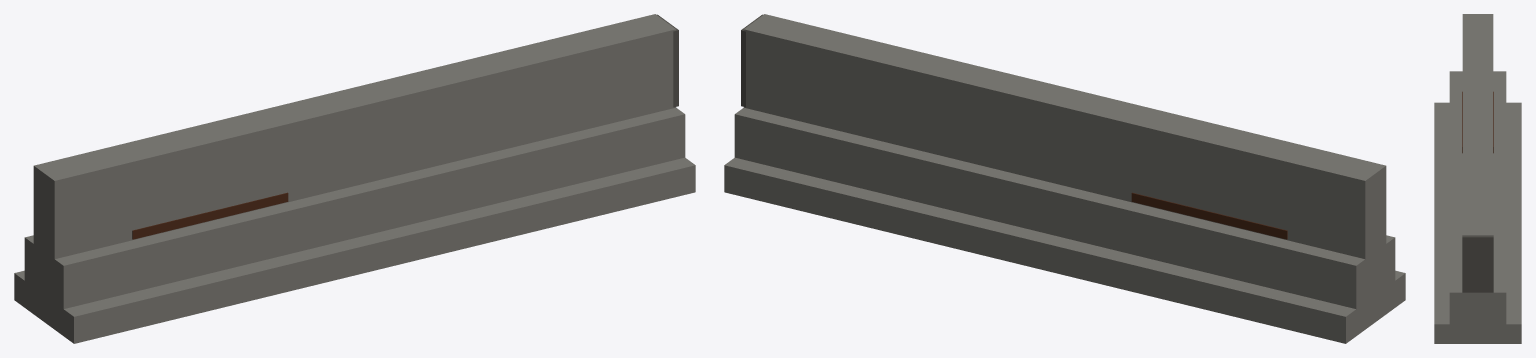
Rendered from env_parapet_12.fbx.
3 renders of one model, left to right at view 1: azimuth 30°, elevation 25°; view 2: azimuth 150°, elevation 25°; view 3: azimuth 270°, elevation 25°, orthographic. The views are drawn at different scales.
Visible parts, largest first — view 1: env_parapet_12; view 2: env_parapet_12; view 3: env_parapet_12.
Boxes of the visible parts, box(x1,y1,x2,y2) form: env_parapet_12: box(14, 14, 695, 343); env_parapet_12: box(724, 14, 1405, 343); env_parapet_12: box(1434, 14, 1521, 343).
Size of the model in its own units: 1205 by 275 by 200.
